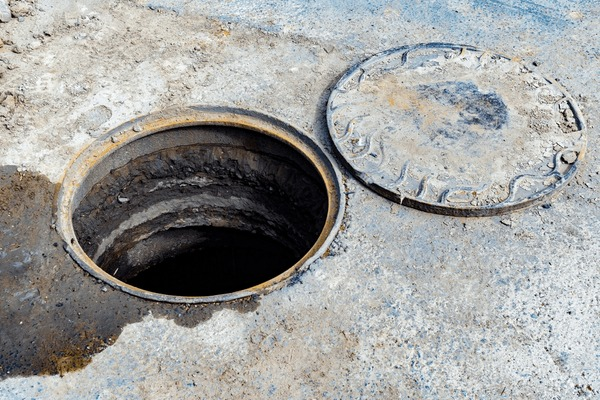open_manhole: (66, 96, 346, 313)
